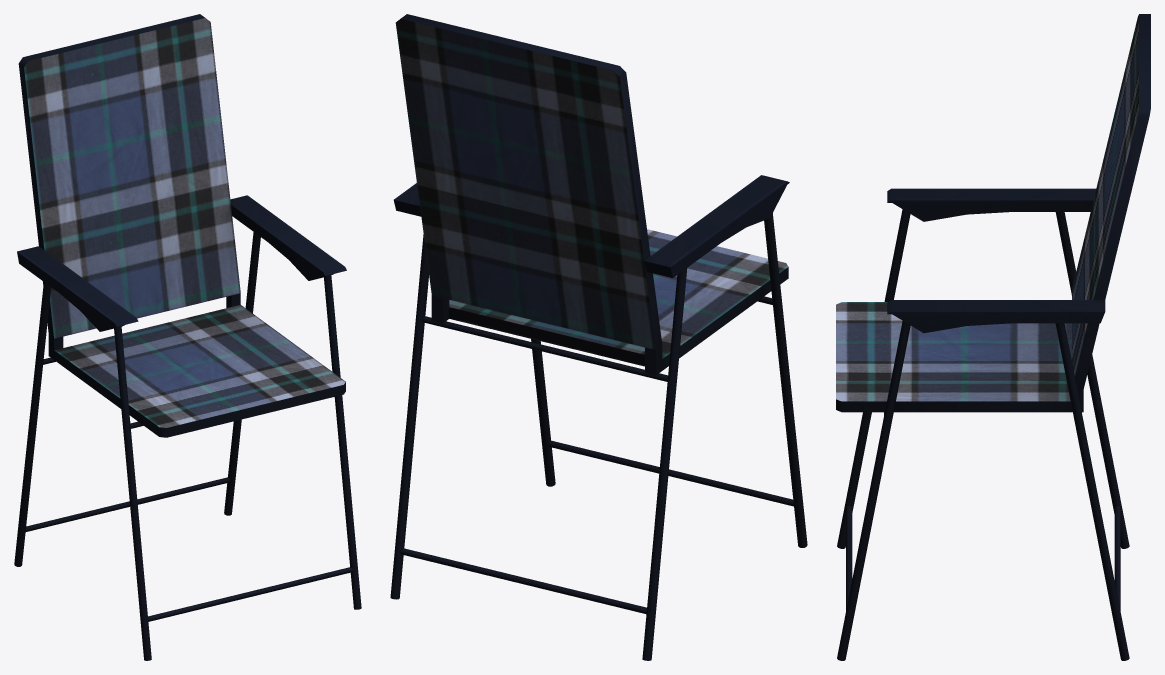
Rendered from camping chair.FBX.
The picture shows the model from 3 angles, left to right: view 1: azimuth 30°, elevation 25°; view 2: azimuth 150°, elevation 25°; view 3: azimuth 270°, elevation 25°; orthographic projection. The views are drawn at different scales.
Parts seen in each view (by area): view 1: cmaping chair; view 2: cmaping chair; view 3: cmaping chair.
Boxes of the visible parts, bbox=[...] form: cmaping chair: bbox=[14, 14, 361, 660]; cmaping chair: bbox=[390, 14, 807, 660]; cmaping chair: bbox=[836, 14, 1150, 660].
Bounding box in the file's own units: 49.4 × 101 × 53.39.
